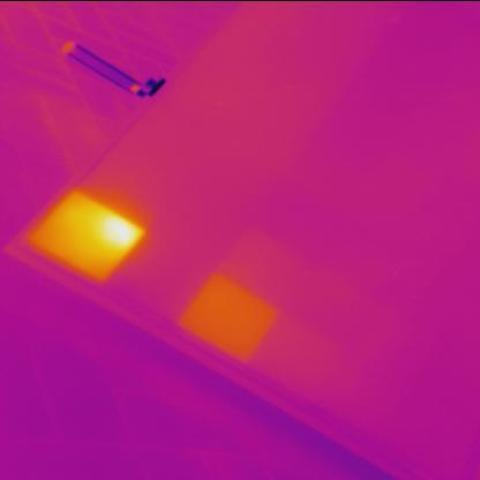fault: (97, 210, 146, 254)
